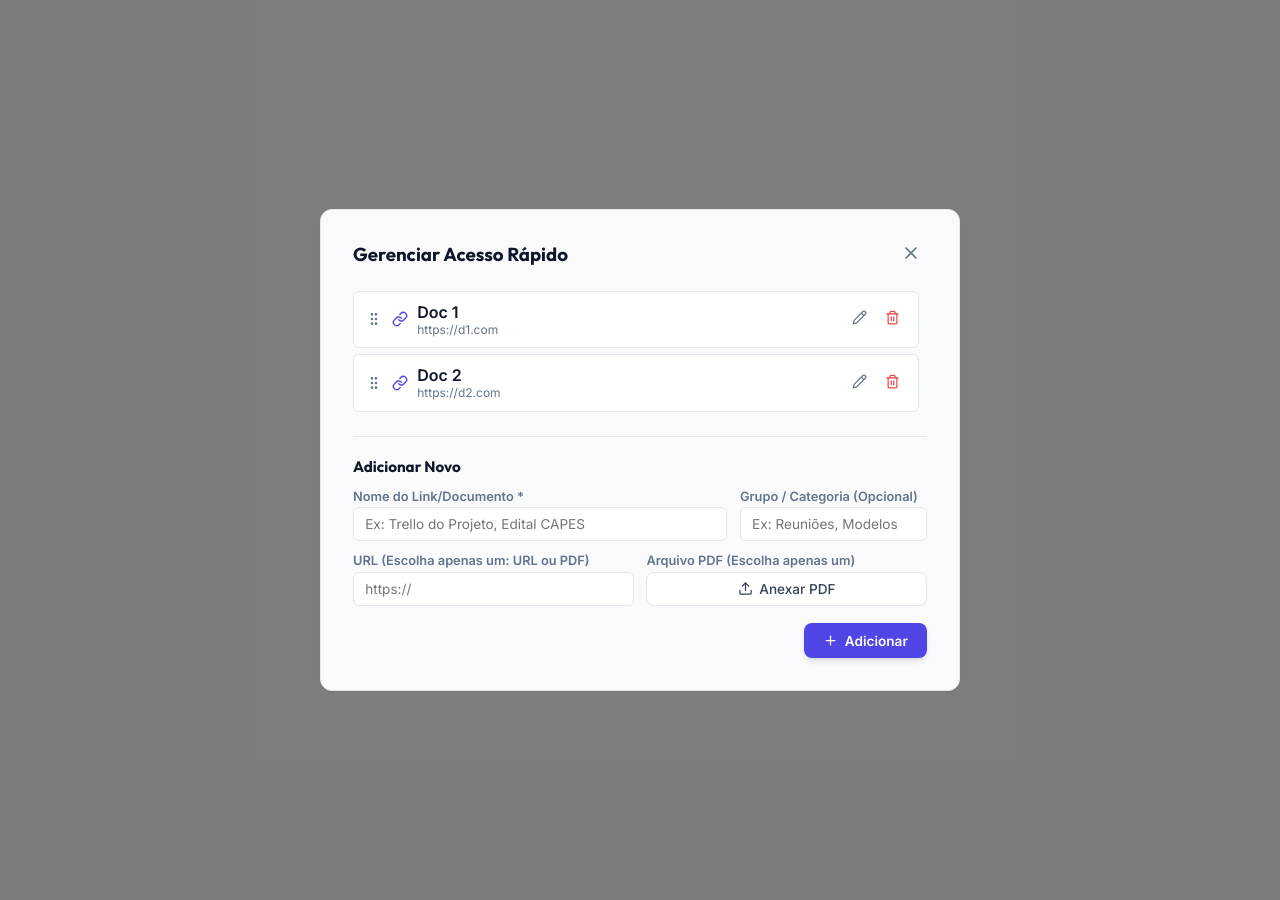
ManageQuickAccessModal editing and deleting › deletes the item being edited and resets the form
Click the button titled "Editar item" in the row of "https://d2.com".
click(860, 383)  # box [846, 367, 873, 398]
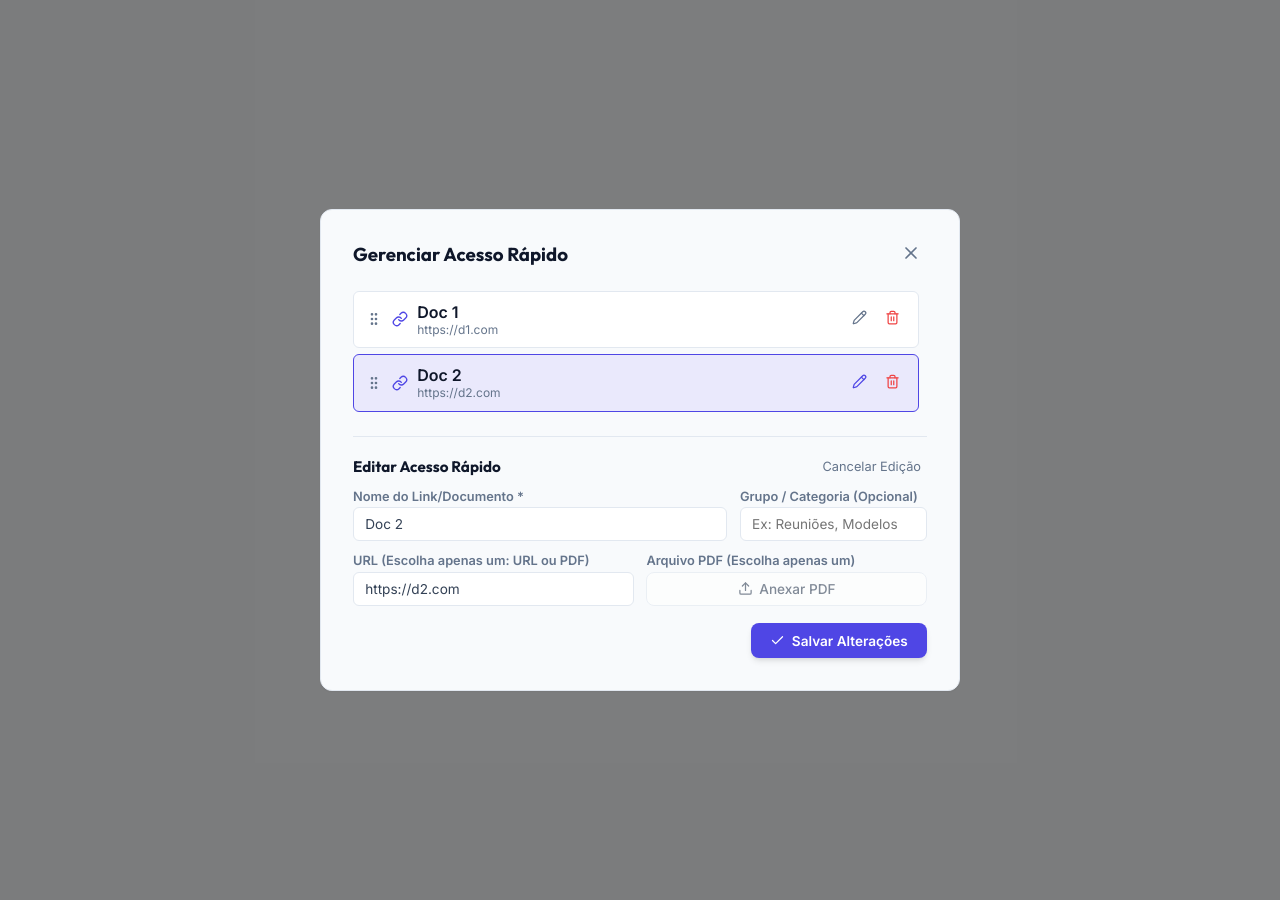
Click the button titled "Remover item" in the row of "https://d2.com".
click(892, 383)  # box [878, 367, 906, 398]
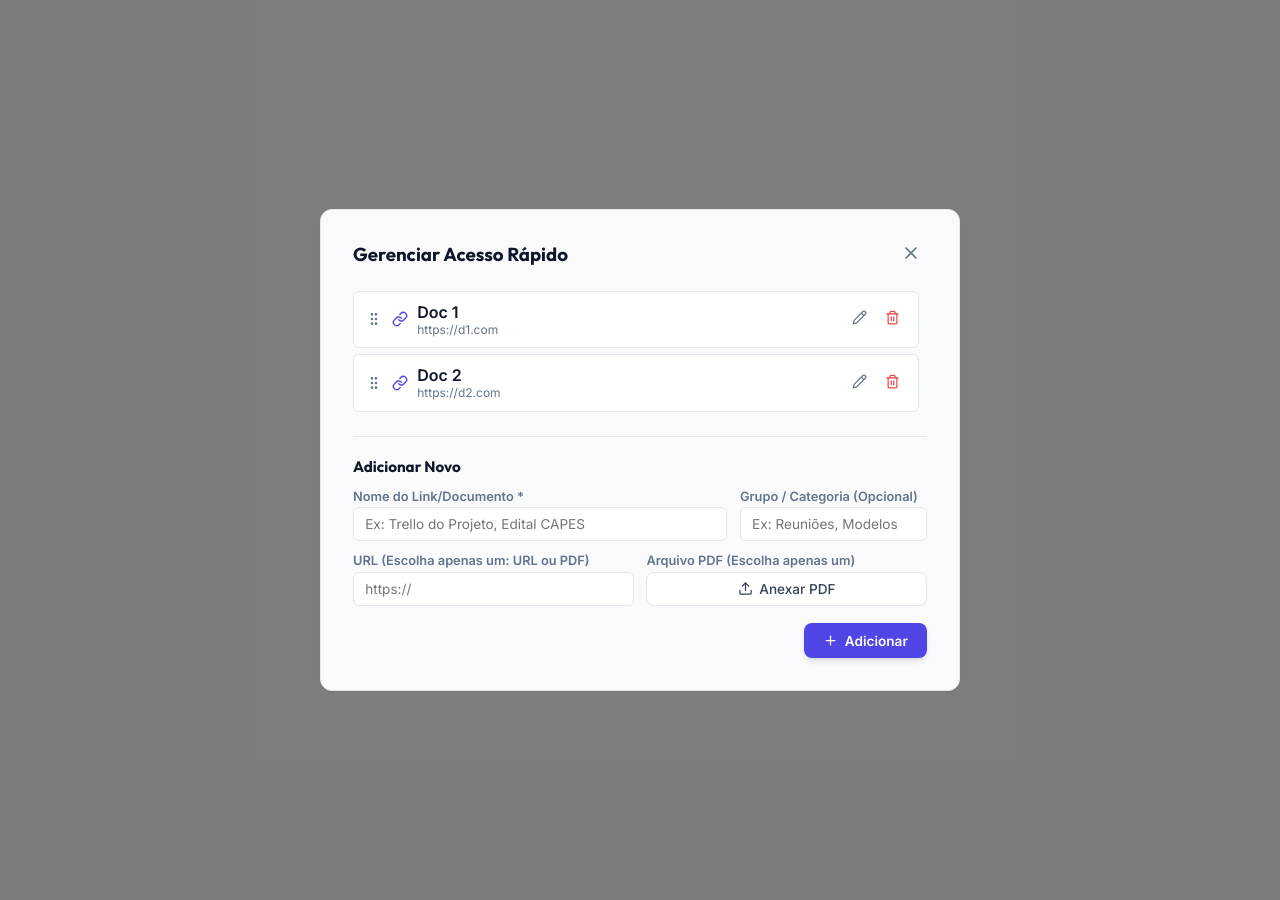
expect the heading "Adicionar Novo" is shown: met, box [353, 457, 461, 476]
